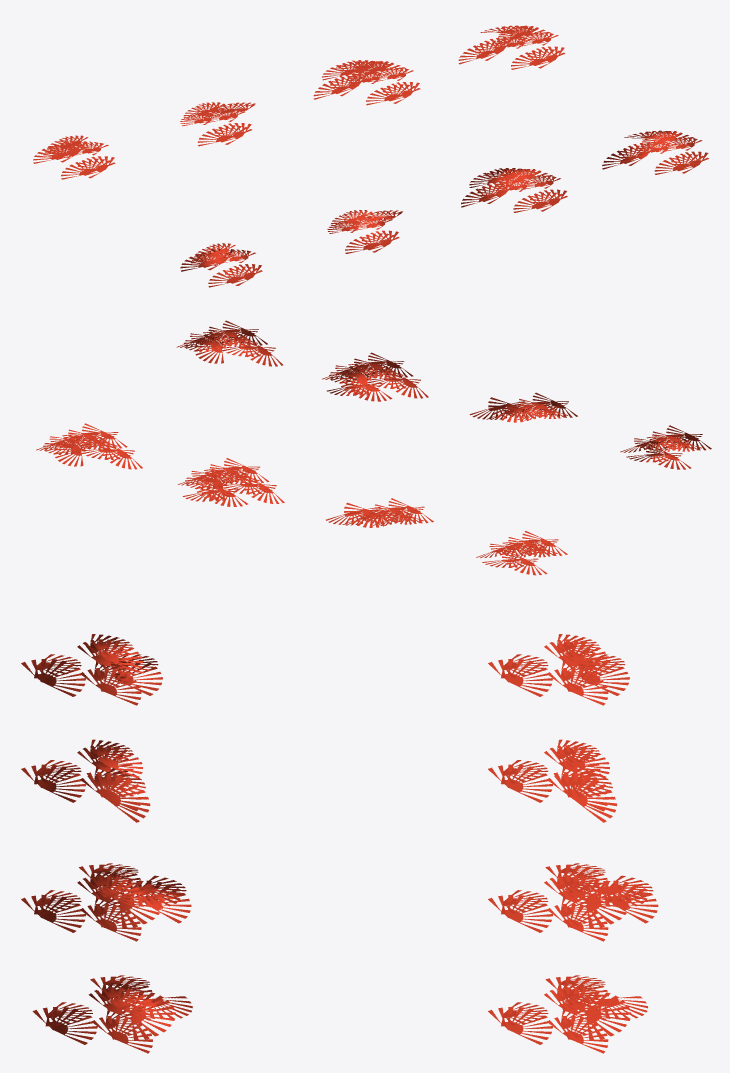
3 views of the same model, one above another, from view 1: azimuth 30°, elevation 25°; view 2: azimuth 150°, elevation 25°; view 3: azimuth 270°, elevation 25° (orthographic). The views are drawn at different scales.
Parts seen in each view (by area): view 1: 平面.029, 平面.007, 平面.001, 平面.028, 平面.018, 平面.022, 平面.032, 平面.040; view 2: 平面.029, 平面.007, 平面.001, 平面.028, 平面.040, 平面.022, 平面.032, 平面.018; view 3: 平面.007, 平面.029, 平面.028, 平面.001, 平面.022, 平面.040, 平面.032, 平面.018.
Part boxes in pixels (bbox=[...]): 平面.029: bbox=[461, 168, 567, 212]; 平面.007: bbox=[313, 60, 420, 105]; 平面.001: bbox=[458, 25, 565, 69]; 平面.028: bbox=[602, 130, 708, 174]; 平面.018: bbox=[180, 102, 255, 146]; 平面.022: bbox=[33, 135, 115, 179]; 平面.032: bbox=[327, 210, 402, 253]; 平面.040: bbox=[180, 243, 262, 287]; 平面.029: bbox=[322, 352, 428, 401]; 平面.007: bbox=[178, 458, 284, 506]; 平面.001: bbox=[36, 423, 142, 469]; 平面.028: bbox=[176, 320, 283, 366]; 平面.040: bbox=[620, 425, 711, 469]; 平面.022: bbox=[476, 531, 567, 575]; 平面.032: bbox=[469, 392, 577, 422]; 平面.018: bbox=[326, 498, 433, 527]; 平面.007: bbox=[488, 863, 658, 941]; 平面.029: bbox=[21, 863, 191, 941]; 平面.028: bbox=[32, 975, 192, 1053]; 平面.001: bbox=[488, 975, 647, 1053]; 平面.022: bbox=[488, 634, 629, 705]; 平面.040: bbox=[21, 634, 162, 705]; 平面.032: bbox=[21, 739, 150, 822]; 平面.018: bbox=[488, 739, 616, 822].
Bounding box in the file's own units: 2522 × 95.78 × 1802.
